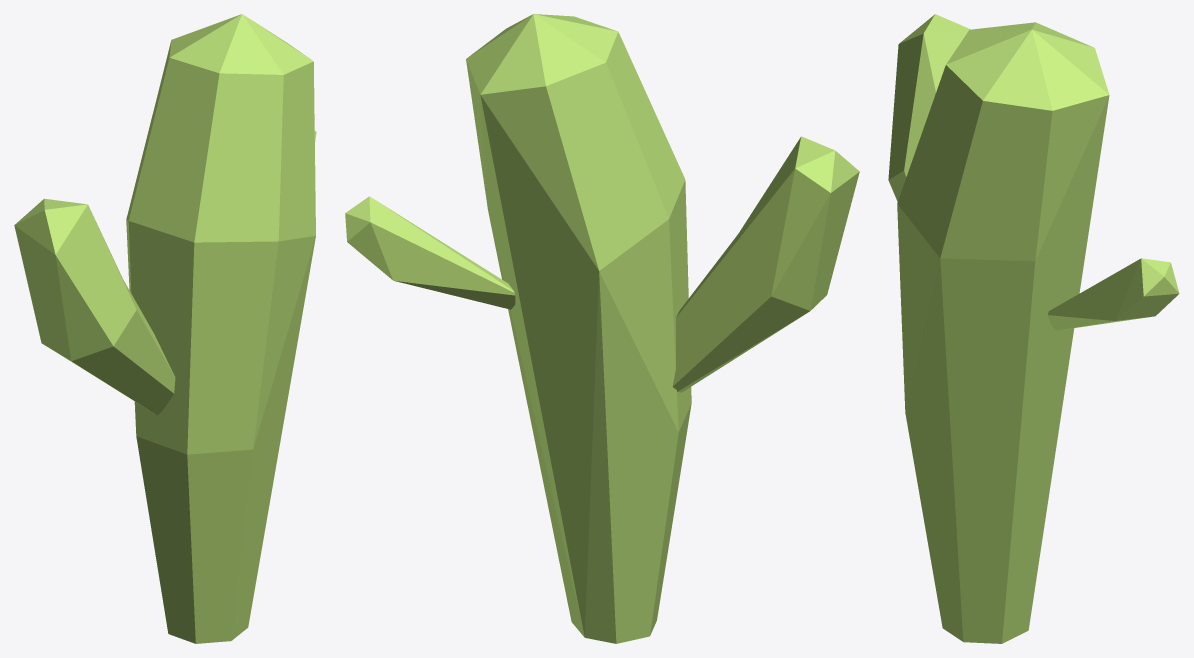
Rendered from Cactus_a_m_05.fbx.
The picture shows the model from 3 angles, left to right: view 1: azimuth 30°, elevation 25°; view 2: azimuth 150°, elevation 25°; view 3: azimuth 270°, elevation 25°; orthographic projection. The views are drawn at different scales.
Parts seen in each view (by area): view 1: Cactus_a_m_05; view 2: Cactus_a_m_05; view 3: Cactus_a_m_05.
Part boxes in pixels (bbox=[...]): Cactus_a_m_05: bbox=[14, 14, 316, 643]; Cactus_a_m_05: bbox=[345, 14, 859, 643]; Cactus_a_m_05: bbox=[888, 14, 1179, 643].
Size of the model in its own units: 152 by 222 by 93.68.
